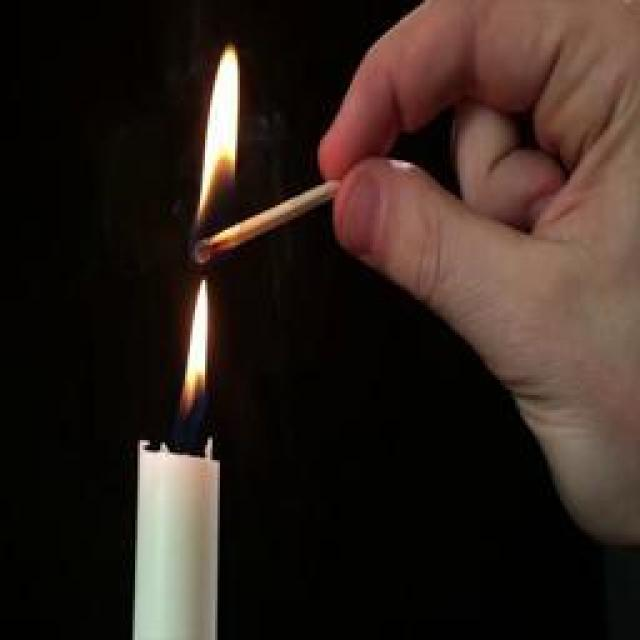Fire: (200, 45, 242, 215), (185, 276, 210, 412)
